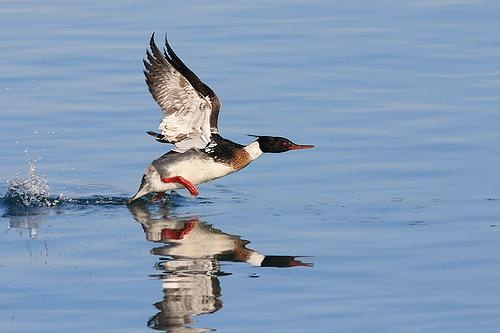bird: (119, 32, 315, 208)
